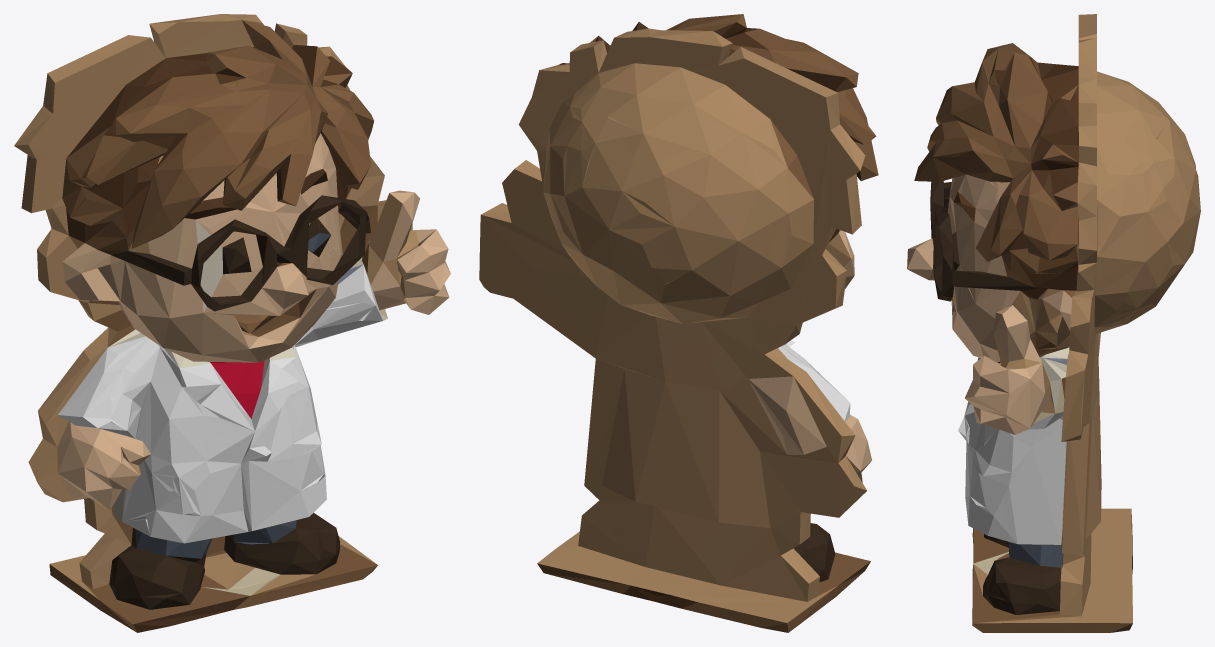
Rendered from standee.glb.
3 renders of one model, left to right at view 1: azimuth 30°, elevation 25°; view 2: azimuth 150°, elevation 25°; view 3: azimuth 270°, elevation 25°, orthographic. The views are drawn at different scales.
Visible parts, largest first — view 1: standee; view 2: standee; view 3: standee.
Part boxes in pixels (x1=…): standee: x1=14, y1=14, x2=450, y2=632; standee: x1=479, y1=14, x2=878, y2=632; standee: x1=907, y1=14, x2=1200, y2=632.
Size of the model in its own units: 0.3671 by 0.5 by 0.2547.
